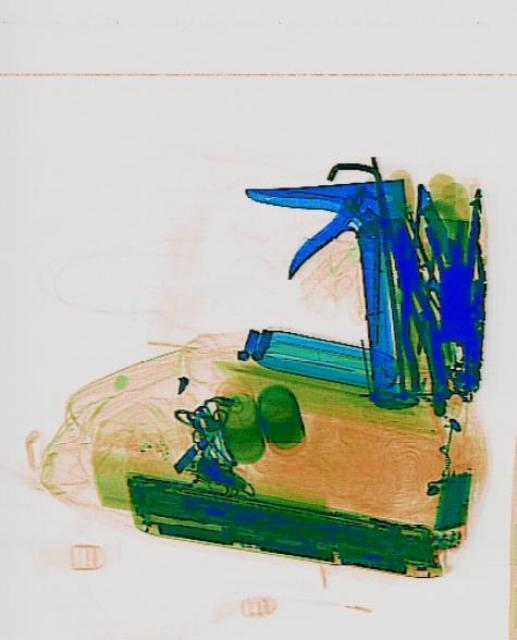Knife: (242, 175, 417, 408)
Pliers: (381, 223, 448, 393)
